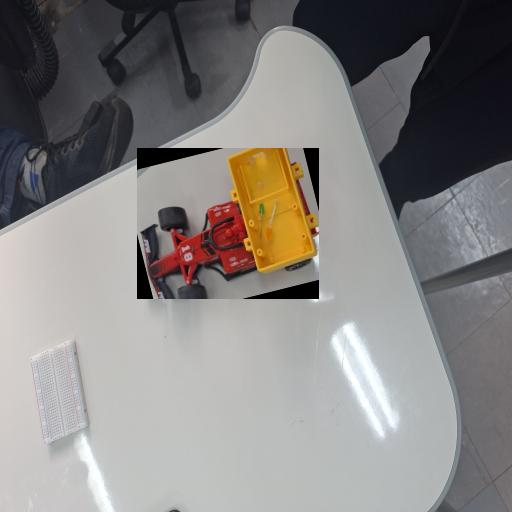carro: (137, 148, 319, 299)
